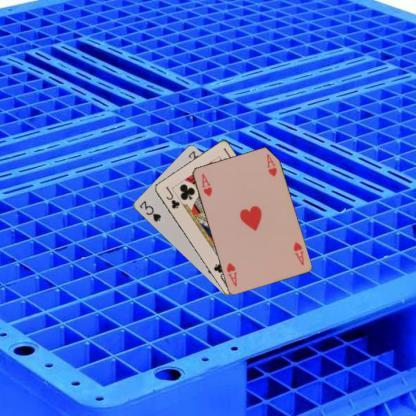3s: (136, 198, 162, 223)
Ah: (290, 239, 306, 266), (198, 172, 214, 198)
Jc: (162, 184, 181, 209)
